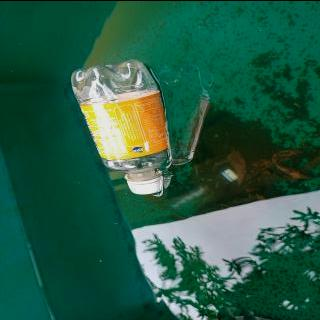bottle: (68, 57, 170, 195)
